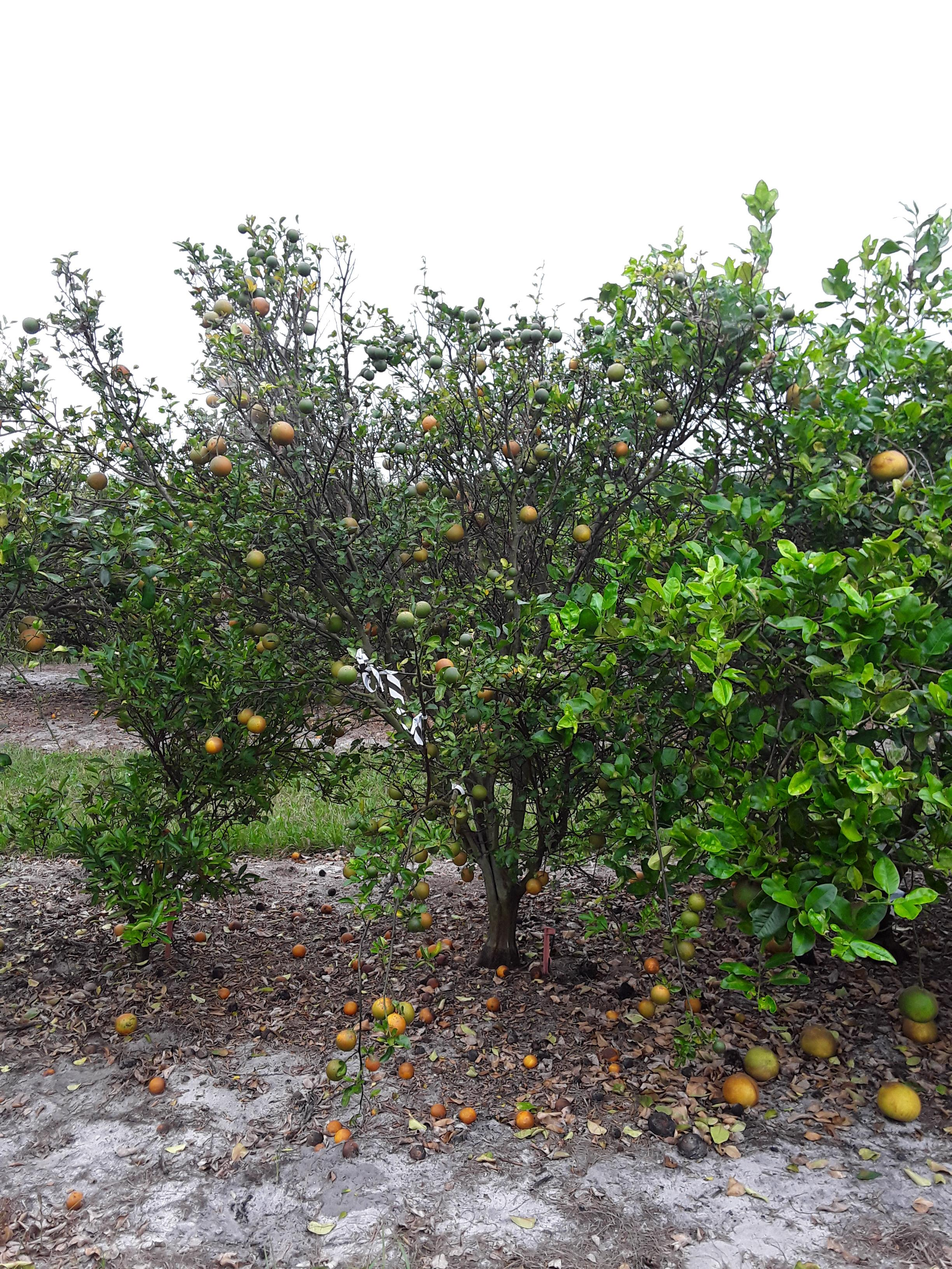fruit_on_ground: (866, 446, 910, 484), (784, 381, 823, 413), (730, 877, 765, 911), (269, 418, 297, 446), (18, 628, 47, 653), (334, 662, 360, 687), (206, 453, 233, 477), (499, 659, 526, 682), (243, 546, 268, 570), (16, 613, 43, 634), (199, 309, 223, 332), (18, 313, 42, 336), (604, 360, 628, 383), (677, 909, 702, 931), (84, 469, 109, 491), (570, 521, 593, 544), (394, 607, 417, 630), (322, 612, 346, 634), (328, 659, 352, 681), (248, 402, 271, 424), (685, 890, 708, 912), (500, 437, 523, 459), (410, 878, 432, 901), (517, 502, 540, 524), (205, 434, 229, 455), (653, 410, 677, 431), (232, 387, 254, 409), (610, 437, 632, 459), (187, 444, 210, 465), (212, 295, 235, 316), (418, 413, 441, 434), (585, 829, 607, 850), (246, 713, 268, 734), (109, 362, 132, 382), (249, 297, 272, 317), (444, 522, 465, 543), (360, 617, 382, 637), (735, 357, 757, 377), (710, 1036, 731, 1056), (441, 480, 461, 501), (413, 598, 434, 618), (235, 705, 256, 725), (203, 734, 224, 754), (433, 656, 455, 675), (595, 773, 615, 793), (405, 913, 425, 933), (470, 782, 490, 802), (233, 318, 254, 337), (296, 397, 317, 416), (471, 353, 489, 375), (474, 684, 496, 702), (416, 531, 438, 549), (238, 275, 258, 294), (361, 816, 380, 836), (470, 508, 490, 527), (749, 301, 769, 320), (545, 325, 565, 344), (284, 225, 304, 244), (138, 419, 159, 437), (250, 620, 271, 638), (651, 396, 672, 414), (341, 513, 360, 532), (117, 437, 136, 456), (416, 910, 435, 929), (413, 477, 432, 496), (523, 876, 542, 895), (519, 457, 539, 475), (461, 306, 481, 324), (18, 376, 38, 394), (532, 867, 550, 887), (463, 707, 483, 725), (441, 666, 461, 684), (668, 320, 689, 337), (260, 633, 281, 650), (386, 783, 405, 801), (779, 304, 797, 323), (422, 741, 441, 759), (294, 259, 313, 277), (459, 866, 478, 884), (533, 442, 552, 460), (410, 545, 429, 563), (248, 285, 268, 302), (452, 849, 470, 867), (264, 254, 282, 272), (411, 845, 429, 863), (488, 324, 506, 342), (564, 355, 583, 372), (457, 631, 476, 648), (394, 548, 414, 564), (300, 319, 318, 336), (427, 353, 444, 371), (534, 387, 551, 405), (501, 586, 518, 603), (255, 637, 272, 654), (204, 390, 221, 407), (402, 484, 419, 501), (519, 327, 535, 345), (224, 615, 243, 630), (391, 440, 408, 456), (364, 863, 380, 880), (341, 862, 357, 878), (537, 379, 555, 393), (485, 568, 501, 583), (190, 281, 207, 295), (474, 383, 489, 398), (364, 344, 379, 359), (381, 455, 395, 471), (531, 423, 545, 439), (345, 816, 359, 831), (502, 337, 517, 351), (373, 358, 388, 372), (671, 271, 686, 285), (375, 347, 389, 361), (255, 248, 269, 262), (362, 369, 377, 382), (530, 329, 543, 344), (474, 339, 489, 352), (245, 246, 260, 259), (591, 324, 606, 336), (529, 322, 543, 334), (236, 222, 248, 235), (506, 566, 519, 578), (402, 333, 415, 345), (499, 330, 513, 341), (514, 336, 525, 349), (625, 296, 634, 306)
fruit_on_tree: (873, 1079, 923, 1124), (896, 983, 940, 1022), (798, 1022, 840, 1060), (742, 1043, 782, 1082), (720, 1071, 761, 1109), (901, 1012, 941, 1044), (676, 1131, 710, 1157), (647, 1111, 677, 1138), (112, 1010, 140, 1037), (370, 995, 395, 1019), (335, 1027, 358, 1051), (649, 982, 672, 1005), (385, 1013, 407, 1037), (513, 1109, 537, 1131), (385, 1012, 407, 1035), (325, 1058, 348, 1080), (64, 1189, 86, 1211), (676, 939, 697, 962), (636, 996, 657, 1018), (626, 867, 649, 887), (615, 978, 636, 999), (337, 1138, 359, 1158), (394, 998, 415, 1018), (147, 1075, 167, 1096), (406, 1143, 428, 1162), (332, 1126, 352, 1145), (642, 955, 662, 974), (684, 994, 703, 1014), (397, 1060, 416, 1080), (457, 1105, 477, 1124), (362, 1053, 382, 1071), (726, 1101, 747, 1118), (598, 1044, 619, 1061), (429, 1101, 447, 1120), (342, 998, 360, 1017), (417, 1005, 435, 1023), (484, 995, 502, 1013), (308, 1129, 327, 1146), (325, 1118, 343, 1135), (521, 1052, 539, 1069), (494, 961, 510, 979), (553, 1094, 570, 1110), (111, 921, 128, 937), (191, 928, 208, 944), (290, 942, 307, 958), (227, 917, 245, 932), (216, 984, 232, 1000), (434, 951, 451, 966), (155, 1119, 172, 1134), (604, 1007, 620, 1022), (426, 938, 442, 952), (439, 936, 455, 950), (606, 1061, 621, 1075), (340, 930, 355, 944), (311, 1140, 327, 1153), (252, 901, 269, 913), (0, 929, 8, 954), (360, 960, 374, 974), (426, 975, 440, 989), (288, 849, 303, 862), (349, 956, 362, 971), (319, 901, 334, 914), (325, 884, 338, 897), (273, 973, 287, 985), (413, 946, 425, 959), (289, 911, 303, 920)
